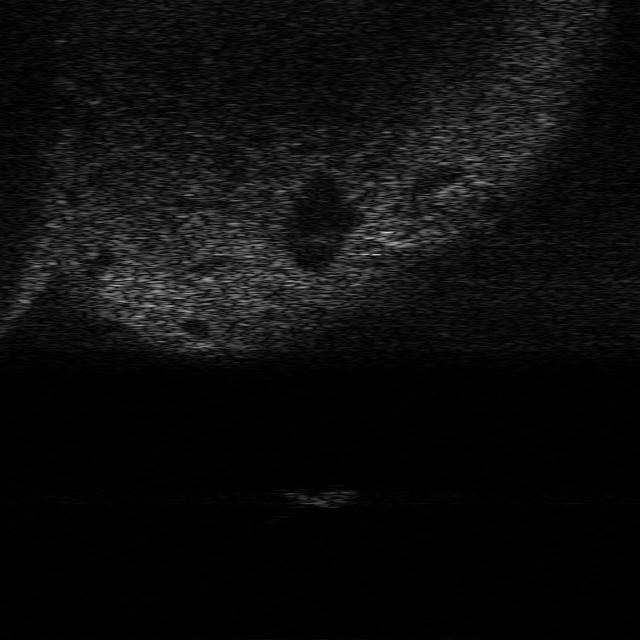cube: (278, 483, 362, 511)
